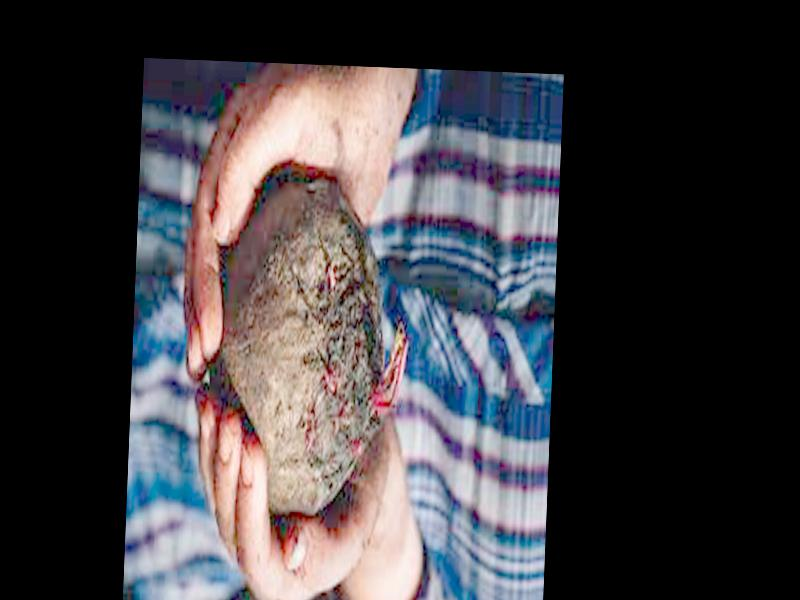Beet: (211, 171, 415, 517)
